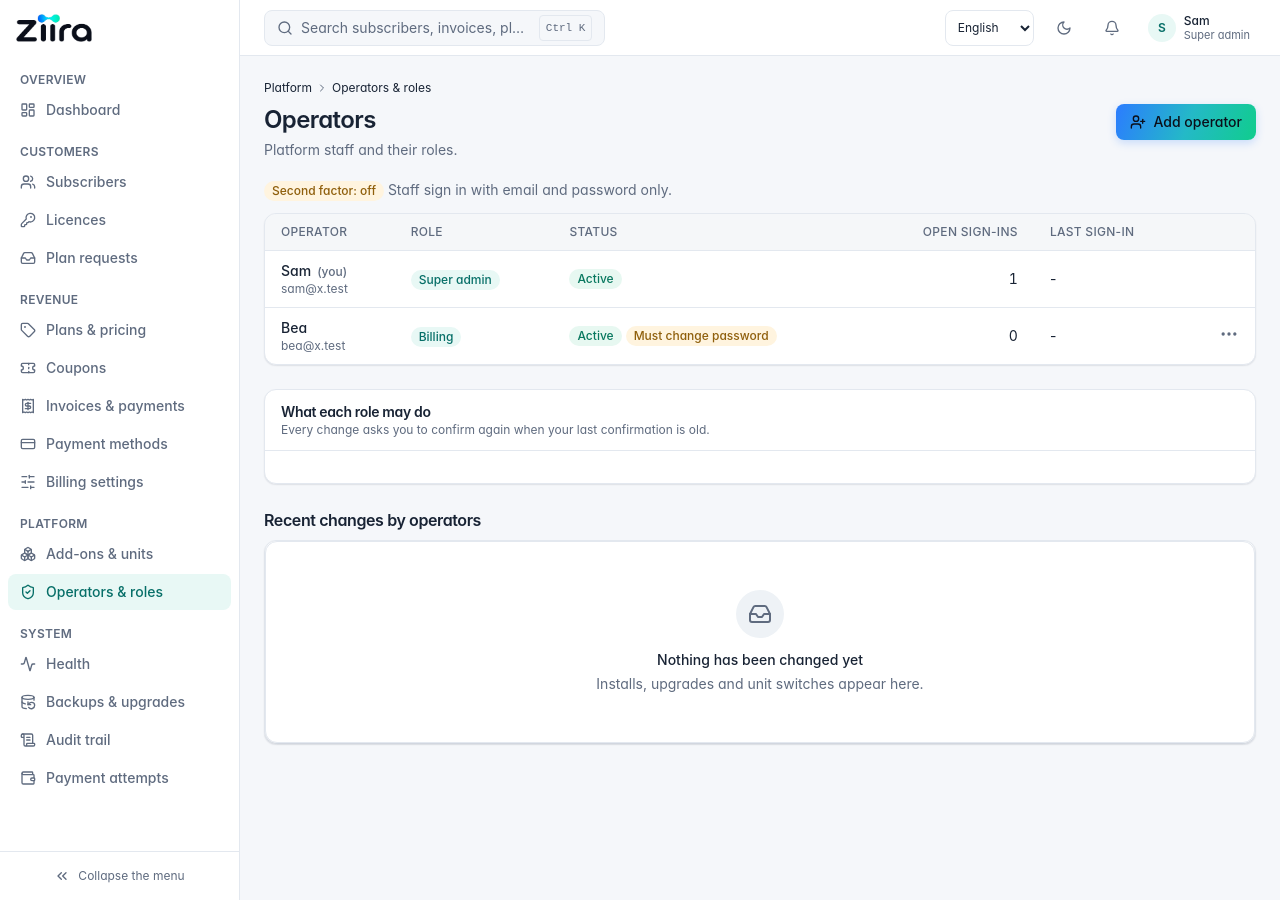
Test: the operators page without a second factor › says the second factor is off, hides its column and action, and resets a password
Check: the text "Bea" is shown, box x1=281 y1=319 x2=307 y2=336
Check: the element with test id "second-factor-state" shows "Second factor: off", box x1=272 y1=183 x2=376 y2=198
Step 1. Click the button named "Actions for Bea" → (1229, 334), box x1=1219 y1=324 x2=1239 y2=344
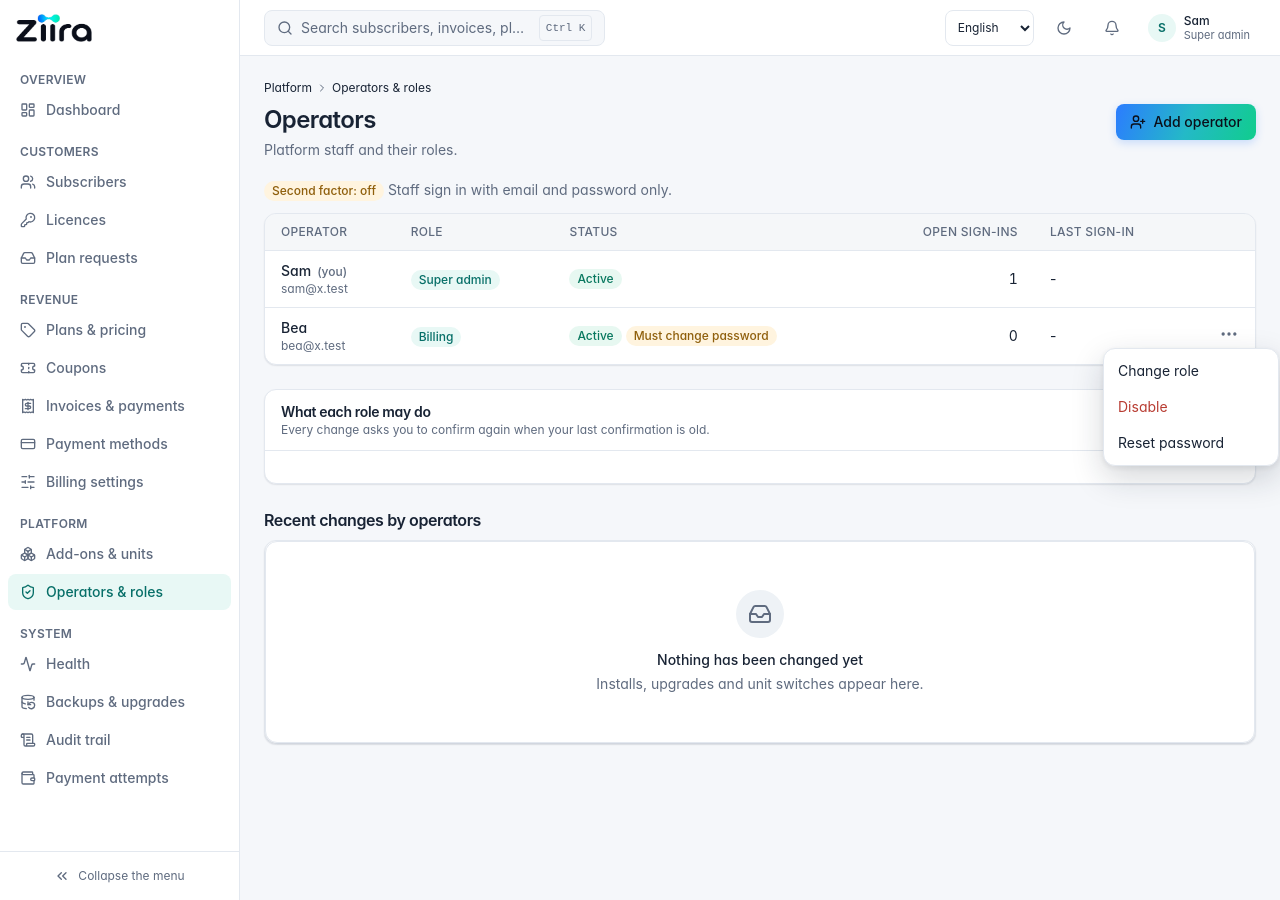
Step 2. Click the menu item "Reset password" → (1191, 442), box x1=1108 y1=424 x2=1274 y2=460
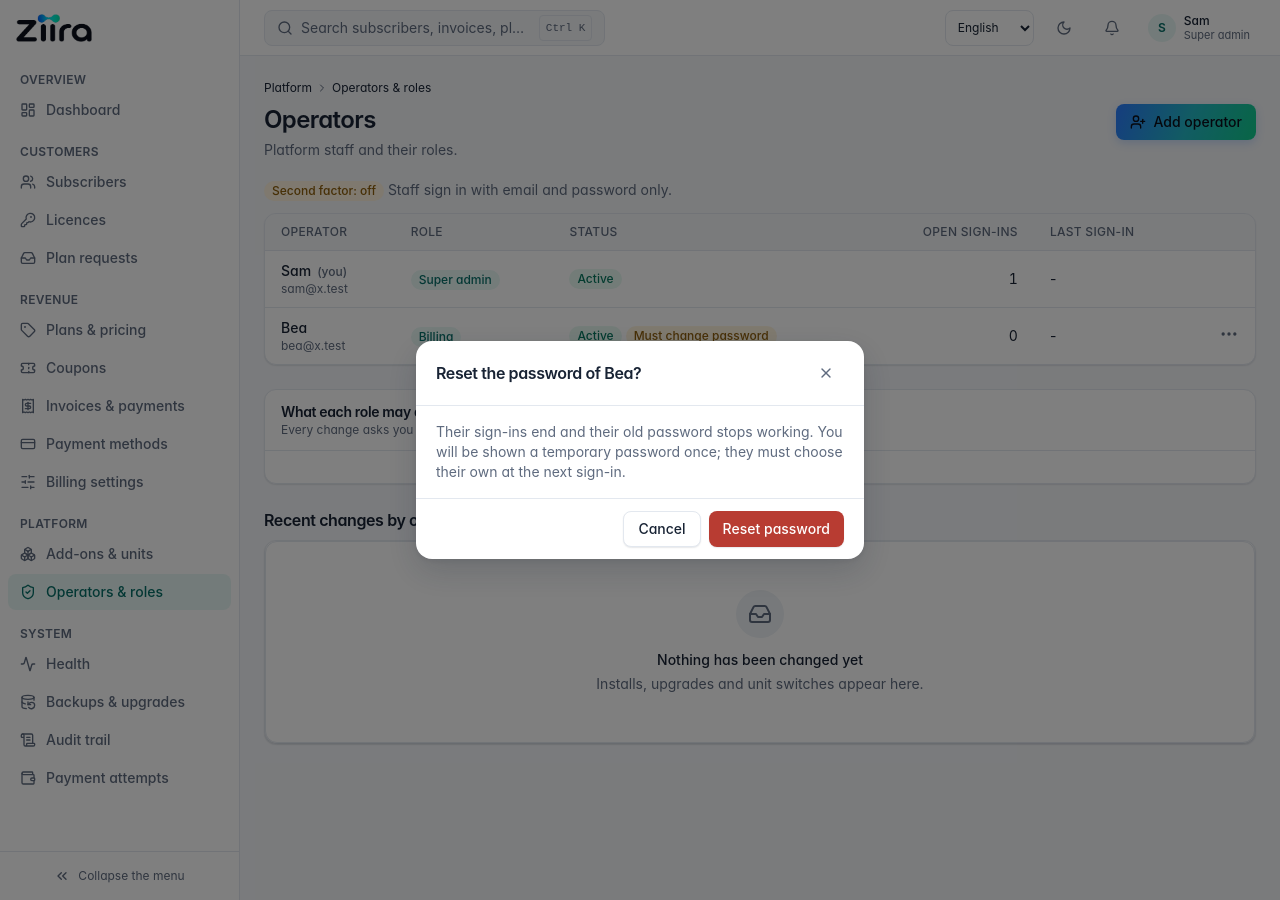
Step 3. Click the button "Reset password" → (776, 529), box x1=709 y1=511 x2=844 y2=547
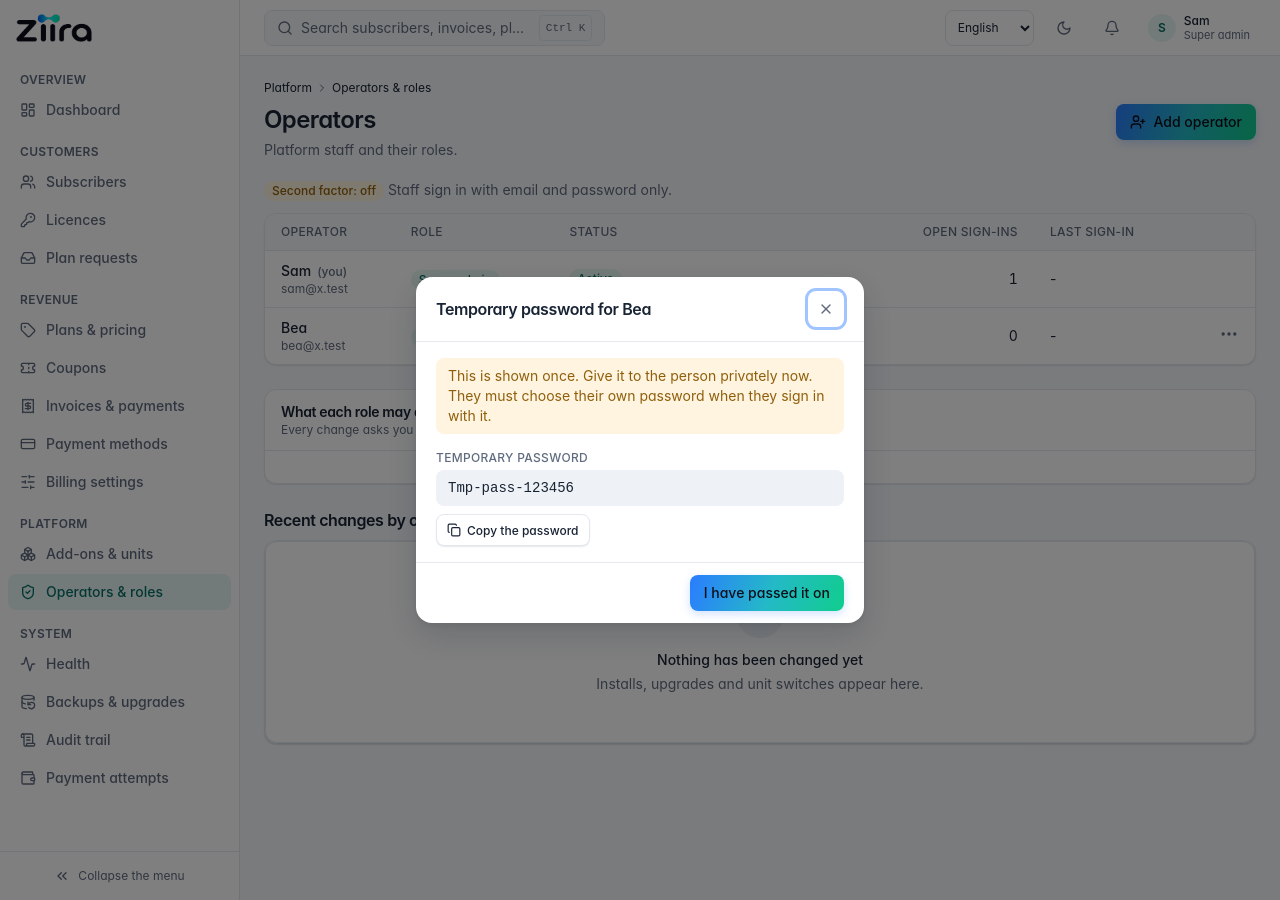
Check: the text with test id "temp-password" reads "Tmp-pass-123456", box x1=448 y1=480 x2=574 y2=496
